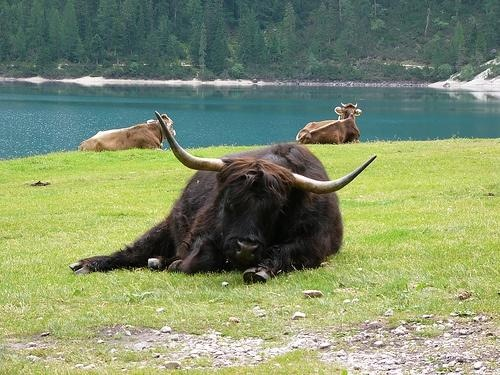cow: (70, 110, 379, 283), (76, 115, 177, 151), (295, 101, 364, 145)
